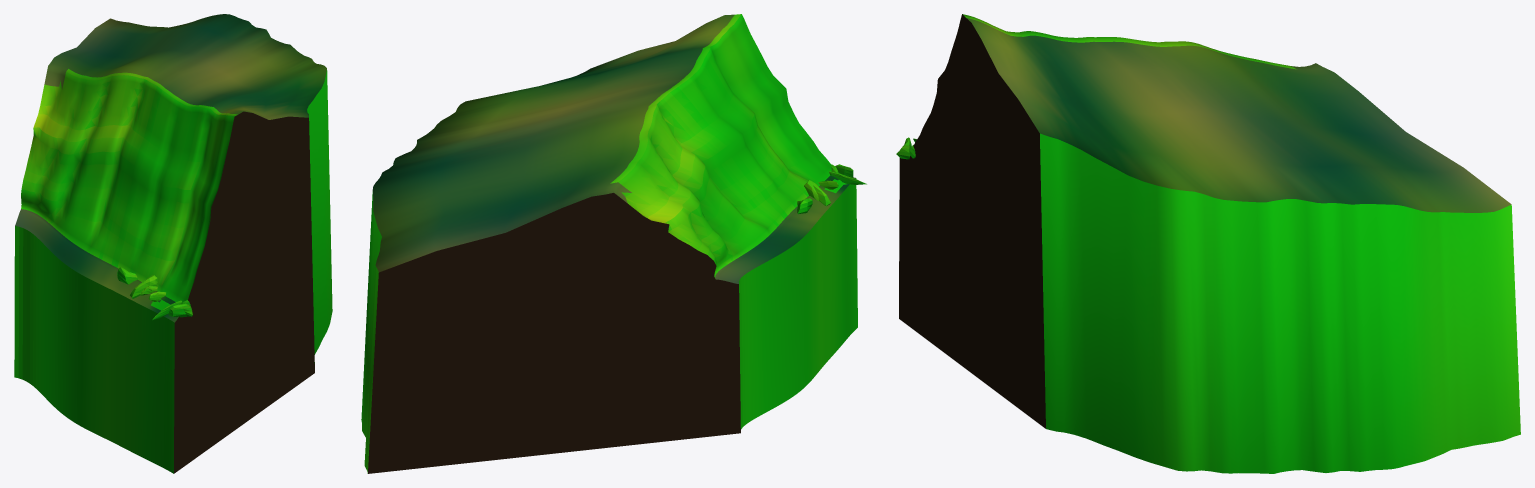
The model's file is SM_ForestRisingCliffs_16.fbx.
The picture shows the model from 3 angles, left to right: view 1: azimuth 30°, elevation 25°; view 2: azimuth 150°, elevation 25°; view 3: azimuth 270°, elevation 25°; orthographic projection. The views are drawn at different scales.
Parts seen in each view (by area): view 1: SM_ForestRisingCliffs_16; view 2: SM_ForestRisingCliffs_16; view 3: SM_ForestRisingCliffs_16.
Part boxes in pixels (x1,y1,x2,y2): SM_ForestRisingCliffs_16: (14,14,332,473); SM_ForestRisingCliffs_16: (361,14,866,473); SM_ForestRisingCliffs_16: (896,14,1520,473).
Bounding box in the file's own units: 53.13 × 82.4 × 51.41.
